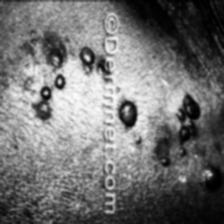Unclassified: (48, 50, 66, 90), (121, 98, 139, 130)
